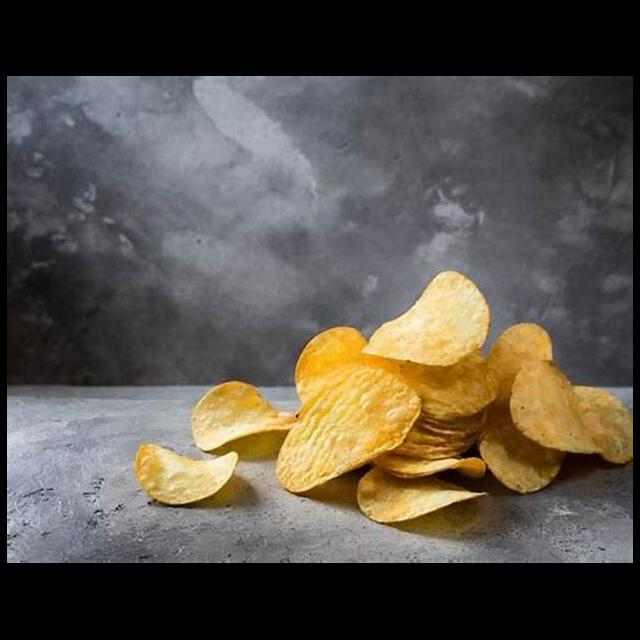food_waste: (307, 292, 620, 553)
